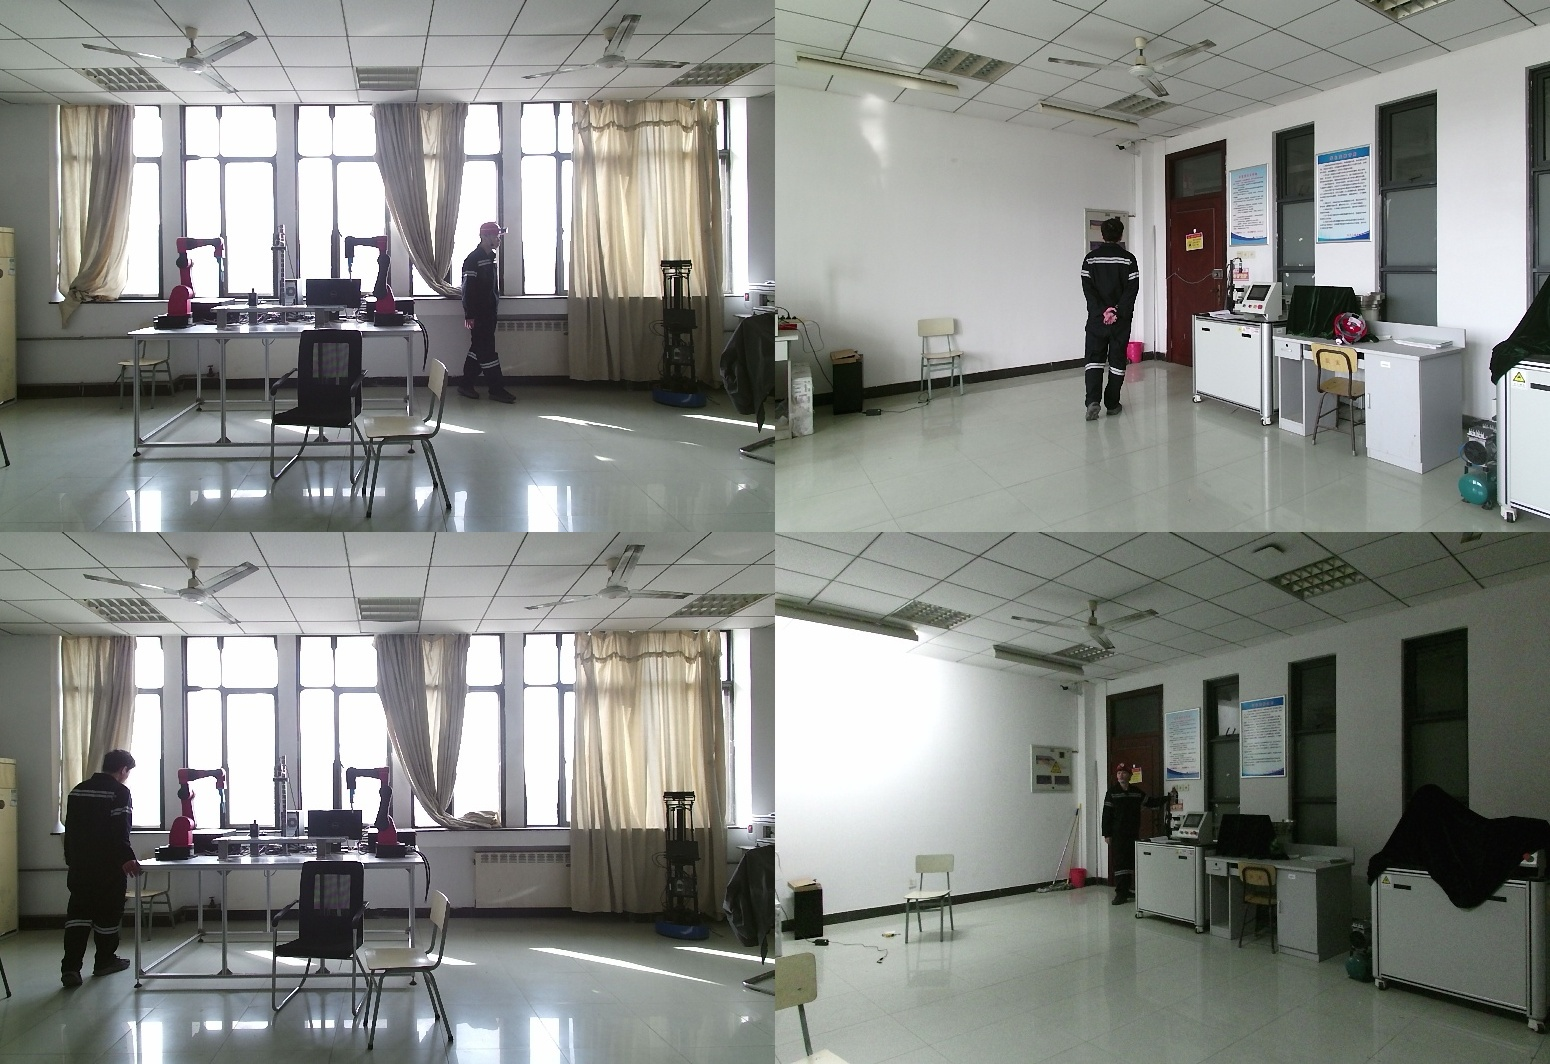person: (56, 749, 143, 985), (1074, 217, 1143, 426), (462, 222, 519, 413), (1097, 760, 1151, 908)
